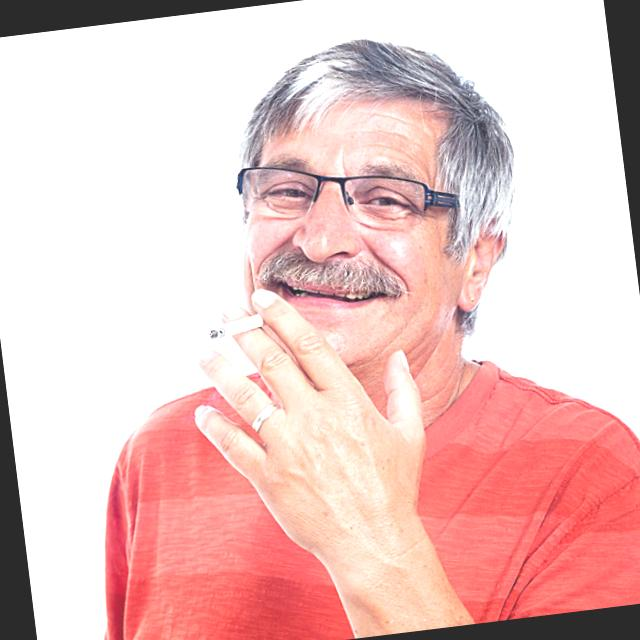smoke: (206, 311, 268, 344)
